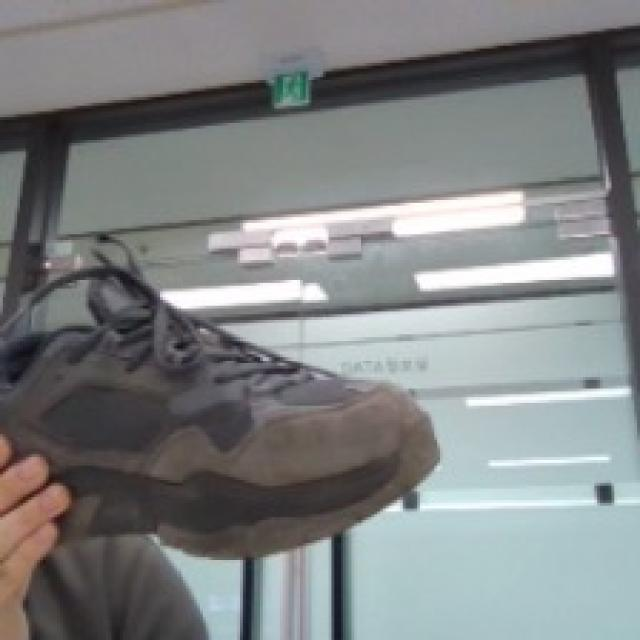shoes: (0, 194, 429, 617)
